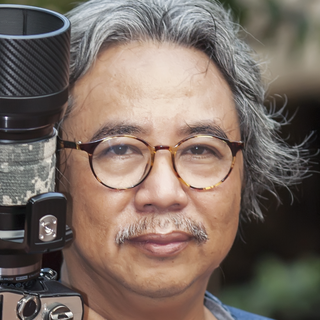eye: (181, 140, 224, 165), (99, 140, 145, 163)
